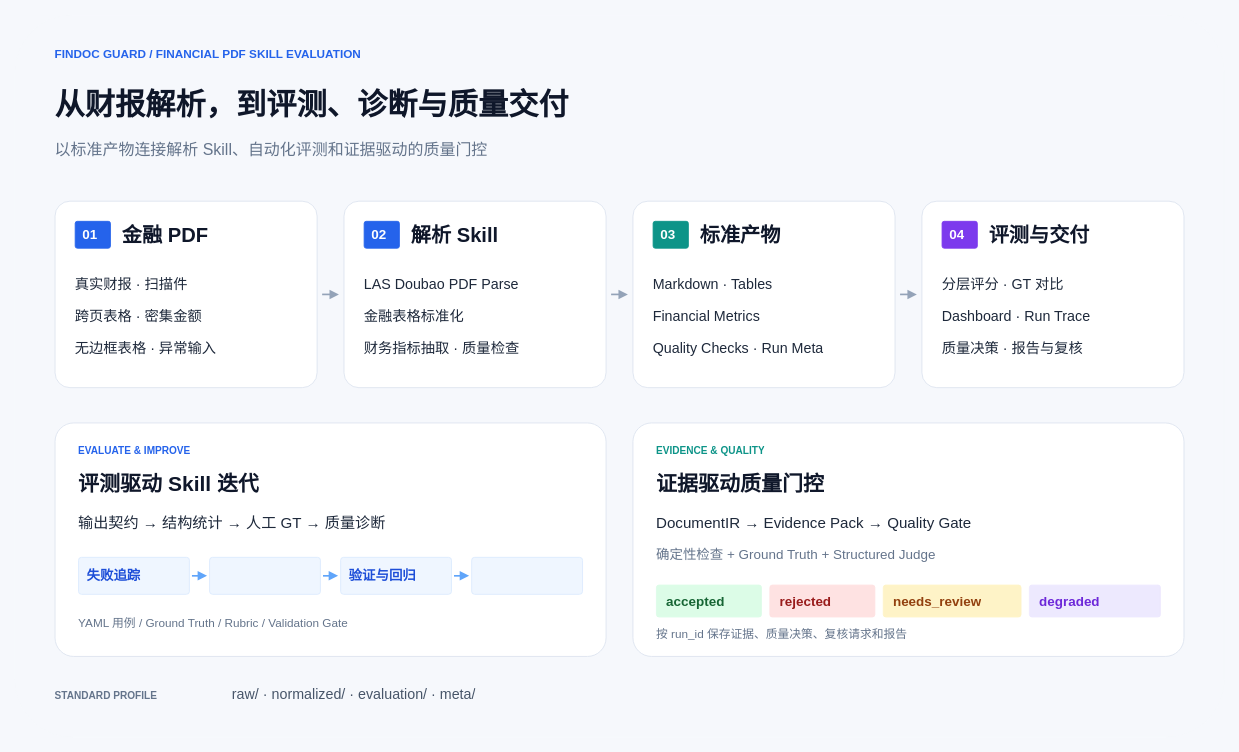
This 1239x752 diagram has some shape labels left out. Each missing label, with the centre of its shape:
"候选补丁" goes at point (264, 575).
"接受 / 拒绝" goes at point (527, 575).
